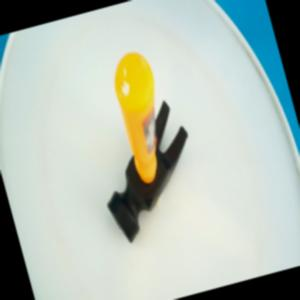martelo: (69, 41, 212, 247)
